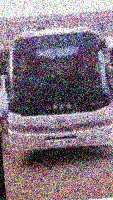bus: (0, 23, 113, 155)
